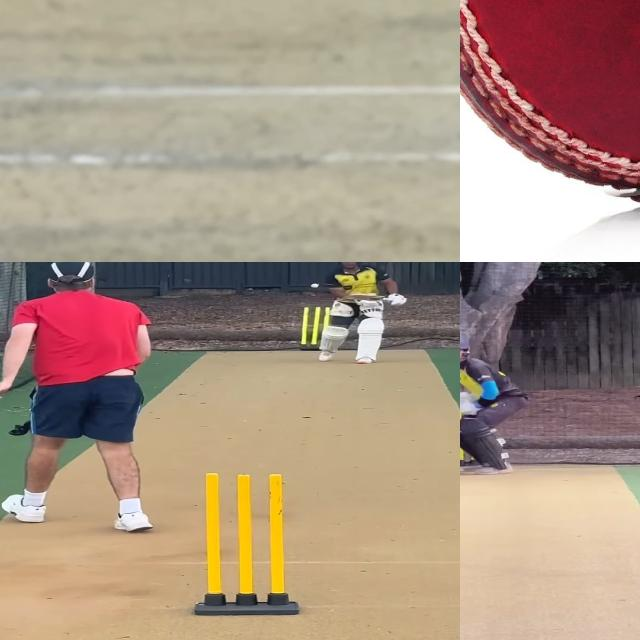Cricket ball: (460, 0, 640, 208), (309, 282, 321, 289)
Stumps: (195, 471, 298, 616), (297, 305, 329, 351)
